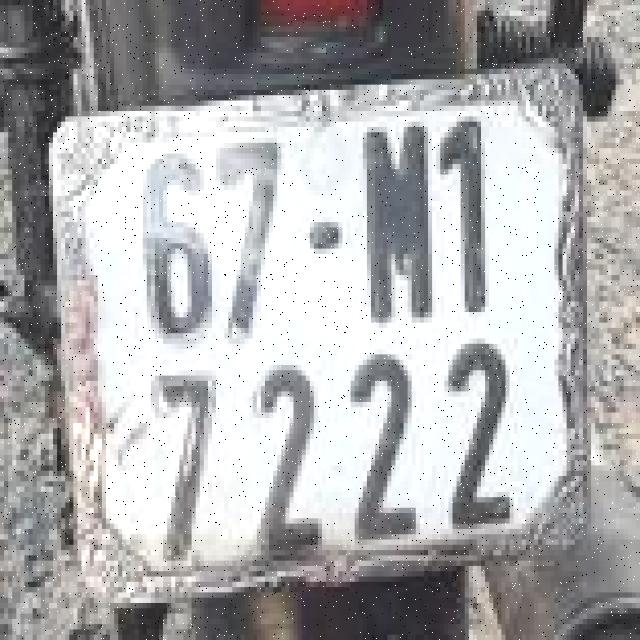1: (438, 114, 508, 320)
2: (348, 344, 422, 539), (444, 336, 518, 526), (253, 362, 326, 553)
6: (139, 151, 212, 346)
7: (212, 137, 285, 344), (143, 368, 216, 563)
M: (359, 121, 436, 322)
